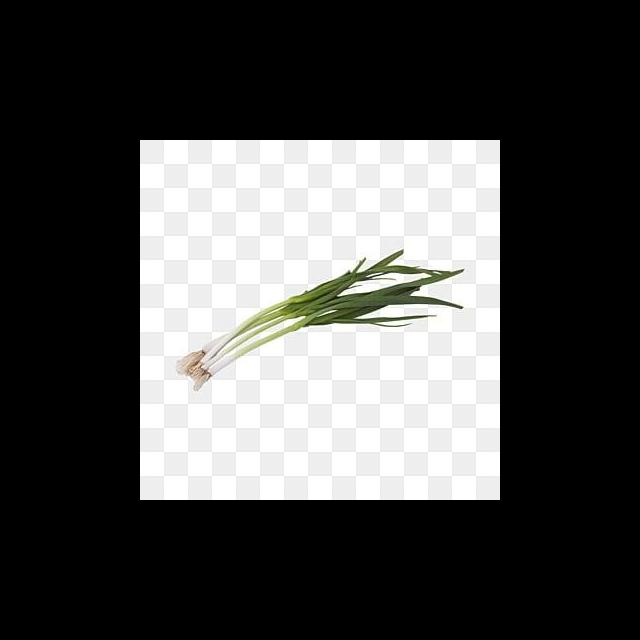green_onion: (165, 238, 479, 381)
